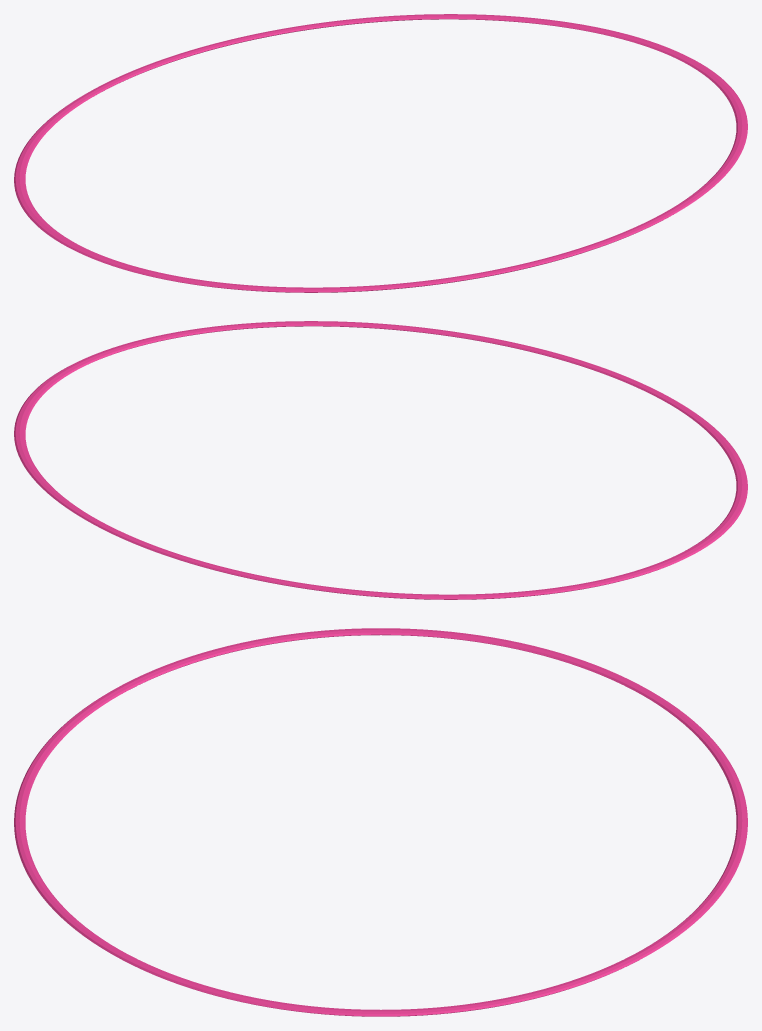
Rendered from ring_pink.glb.
3 renders of one model, top to bottom at view 1: azimuth 30°, elevation 25°; view 2: azimuth 150°, elevation 25°; view 3: azimuth 270°, elevation 25°, orthographic. The views are drawn at different scales.
Parts seen in each view (by area): view 1: world; view 2: world; view 3: world.
Part boxes in pixels (x1=…): world: x1=14, y1=14, x2=747, y2=292; world: x1=14, y1=321, x2=747, y2=599; world: x1=14, y1=628, x2=747, y2=1016.
Bounding box in the file's own units: 7.11 × 0.032 × 5.69.
